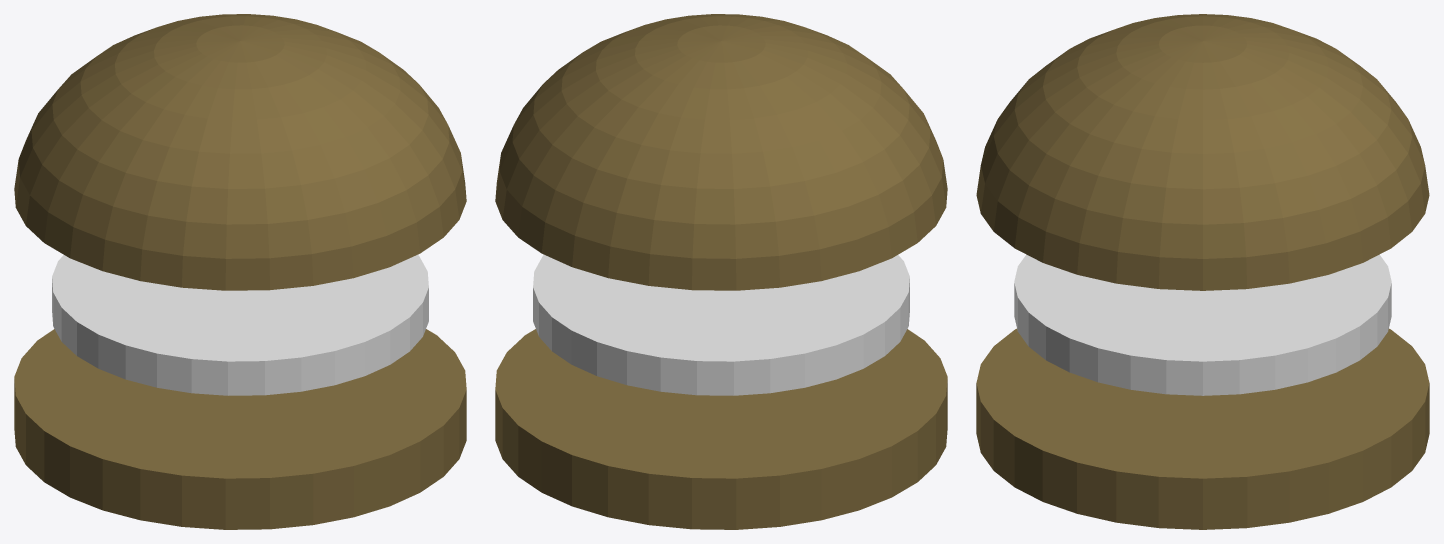
The model's file is burger.fbx.
The picture shows the model from 3 angles, left to right: view 1: azimuth 30°, elevation 25°; view 2: azimuth 150°, elevation 25°; view 3: azimuth 270°, elevation 25°; orthographic projection.
Parts seen in each view (by area): view 1: bun top, bun bottom, patty; view 2: bun top, bun bottom, patty; view 3: bun top, bun bottom, patty.
Part boxes in pixels (x1=…): bun top: x1=14, y1=14, x2=466, y2=290; bun bottom: x1=14, y1=329, x2=466, y2=529; patty: x1=52, y1=255, x2=428, y2=395; bun top: x1=495, y1=14, x2=947, y2=290; bun bottom: x1=495, y1=329, x2=947, y2=529; patty: x1=533, y1=255, x2=909, y2=395; bun top: x1=976, y1=14, x2=1429, y2=290; bun bottom: x1=976, y1=328, x2=1429, y2=529; patty: x1=1014, y1=254, x2=1391, y2=395.
Bounding box in the file's own units: 240 × 230 × 240.
